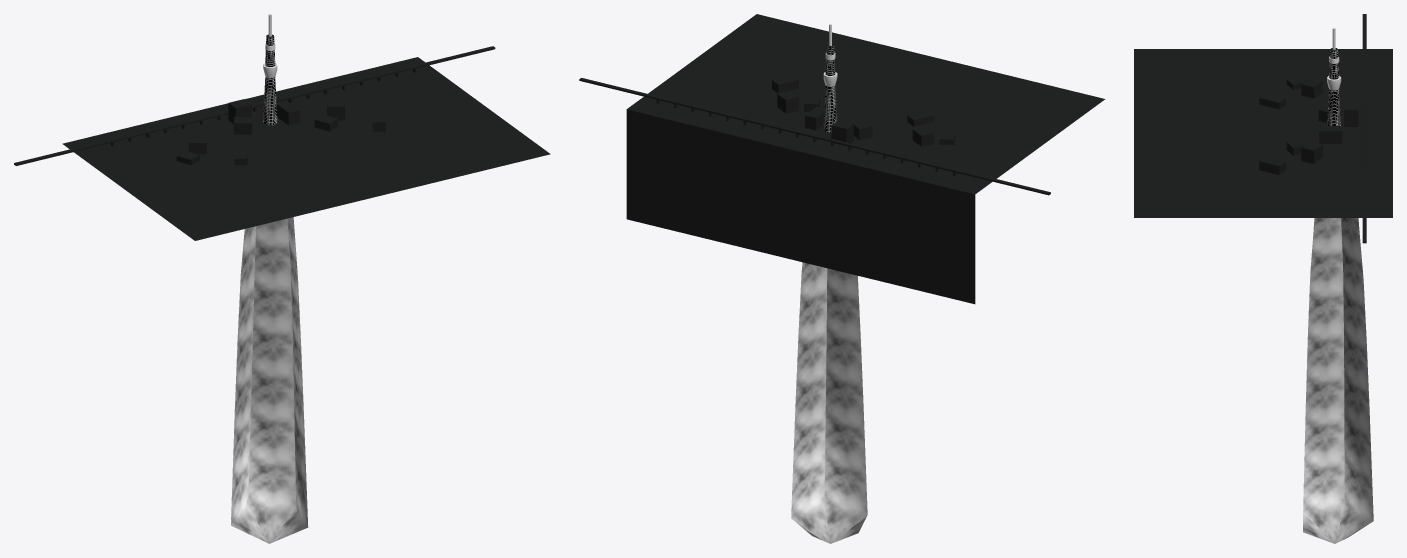
File: SKYTREE.glb
The picture shows the model from 3 angles, left to right: view 1: azimuth 30°, elevation 25°; view 2: azimuth 150°, elevation 25°; view 3: azimuth 270°, elevation 25°; orthographic projection. The views are drawn at different scales.
Parts seen in each view (by area): view 1: obj3, obj11; view 2: obj3, obj11; view 3: obj3, obj11.
Part boxes in pixels (left/top/right/bottom): obj3: left=14, top=46, right=550, bottom=240; obj11: left=231, top=14, right=308, bottom=543; obj3: left=579, top=14, right=1105, bottom=304; obj11: left=791, top=24, right=867, bottom=543; obj3: left=1134, top=14, right=1392, bottom=243; obj11: left=1303, top=28, right=1373, bottom=543.
Bounding box in the file's own units: 135 × 142 × 64.7.
Materials: 6 (5 with a texture image).
